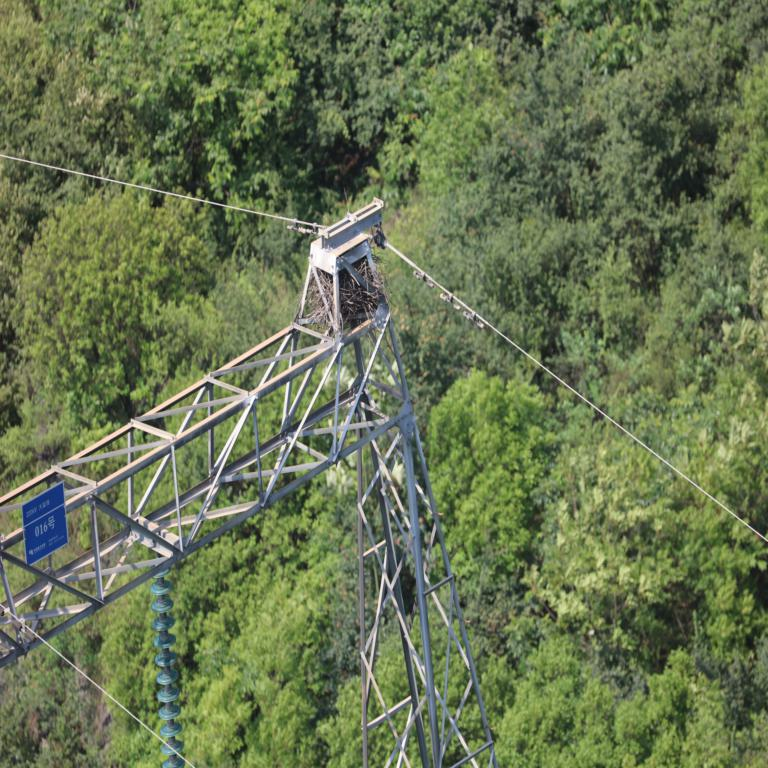nest: (307, 266, 387, 329)
